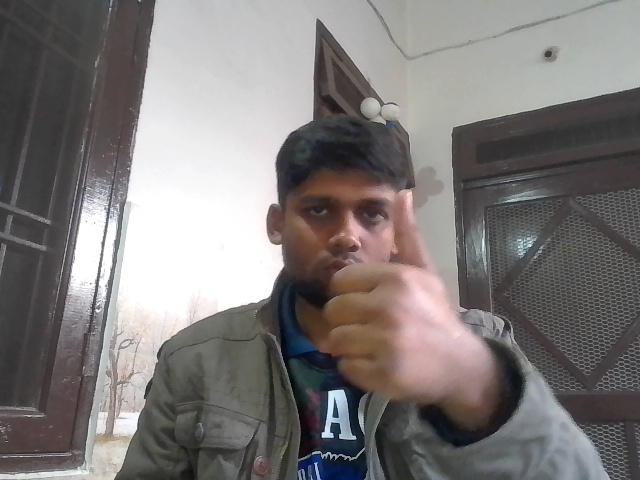BestOfLuck: (317, 185, 453, 401)
